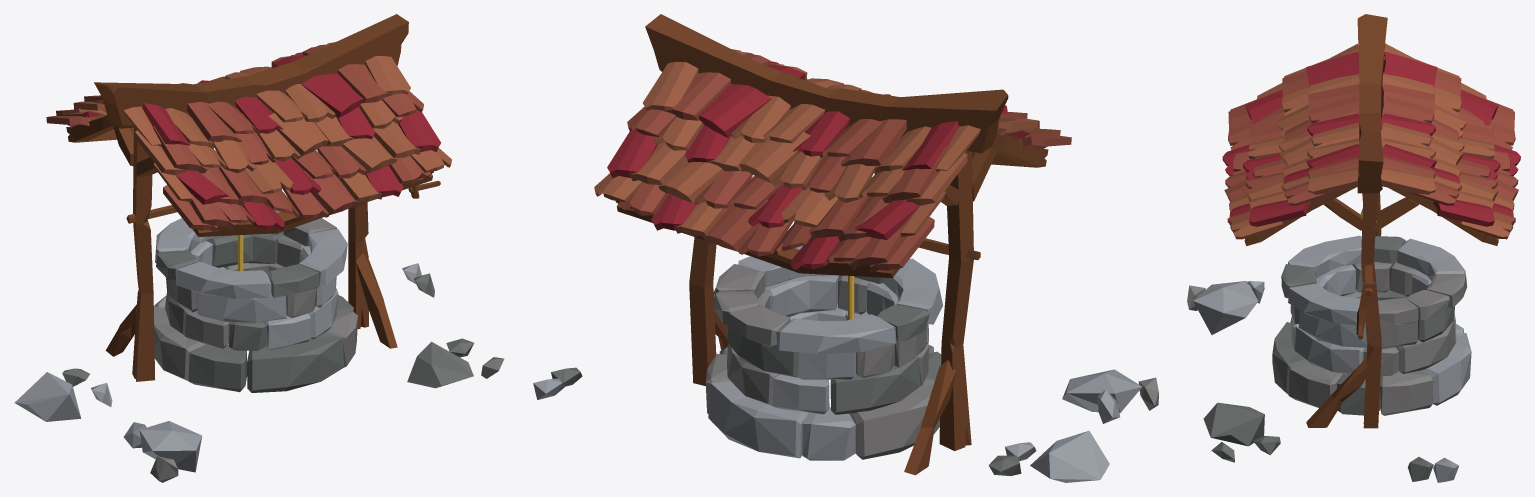
File: well.glb
3 views of the same model, side by side, from view 1: azimuth 30°, elevation 25°; view 2: azimuth 150°, elevation 25°; view 3: azimuth 270°, elevation 25° (orthographic). The views are drawn at different scales.
Parts seen in each view (by area): view 1: Cube.001, Cube.007, Cube.003, Cube.002, Cube.004, Cube.006, Icosphere.003, Icosphere.006, Cube.005, Icosphere, Cube.059, Cube.016 (+45 smaller); view 2: Cube.003, Cube.001, Cube.007, Cube.002, Cube.004, Cube.006, Cube.005, Icosphere.006, Cube.059, Cube.016, Cube.070, Icosphere.003 (+45 smaller); view 3: Cube.003, Cube.001, Cube.002, Cube.007, Cube.004, Cube.005, Icosphere.003, Cube.064, Cube.042, Cube.063, Icosphere, Cube.056 (+43 smaller).
Part boxes in pixels (x1,y1,x2,y2): Cube.001: (154, 295, 357, 392); Cube.007: (94, 14, 408, 128); Cube.003: (155, 209, 347, 298); Cube.002: (166, 233, 336, 322); Cube.004: (165, 263, 338, 350); Cube.006: (132, 127, 154, 381); Icosphere.003: (139, 421, 201, 472); Icosphere.006: (14, 372, 81, 421); Cube.005: (348, 202, 368, 329); Icosphere: (407, 341, 473, 388); Cube.059: (273, 55, 363, 118); Cube.016: (66, 126, 433, 236); Cube.003: (714, 245, 942, 354); Cube.001: (705, 345, 941, 460); Cube.007: (645, 14, 1008, 153); Cube.002: (726, 275, 928, 379); Cube.004: (727, 304, 928, 414); Cube.006: (939, 151, 973, 450); Cube.005: (689, 237, 716, 386); Icosphere.006: (1030, 430, 1109, 482); Cube.059: (698, 64, 805, 138); Cube.016: (615, 149, 1048, 278); Cube.070: (904, 360, 955, 475); Icosphere.003: (1062, 369, 1142, 412); Cube.003: (1281, 235, 1467, 325); Cube.001: (1272, 321, 1471, 415); Cube.002: (1290, 261, 1454, 348); Cube.007: (1357, 14, 1387, 193); Cube.004: (1291, 289, 1456, 376); Cube.005: (1361, 193, 1381, 428); Icosphere.003: (1193, 281, 1258, 334); Cube.064: (1306, 51, 1437, 87); Cube.042: (1248, 200, 1494, 226); Cube.063: (1307, 166, 1435, 194); Icosphere: (1203, 402, 1264, 446); Cube.056: (1309, 96, 1433, 123).
Bounding box in the file's own units: 5.16 × 3.67 × 3.5.
